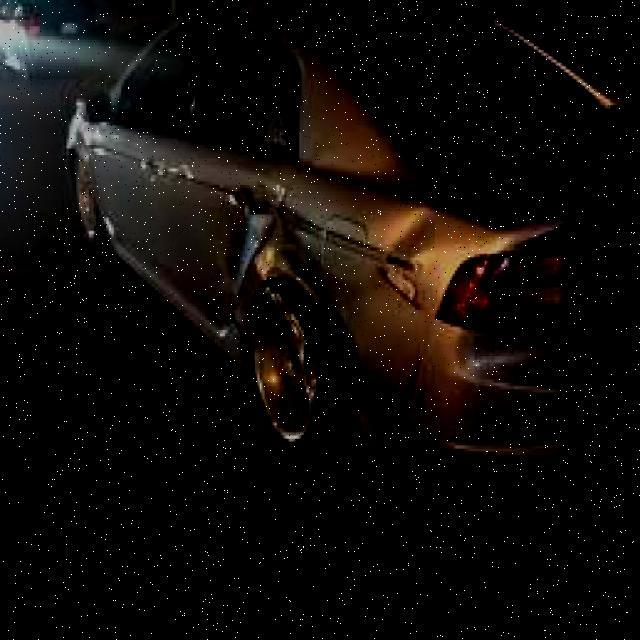car damage: (228, 181, 434, 431), (377, 207, 446, 318)
